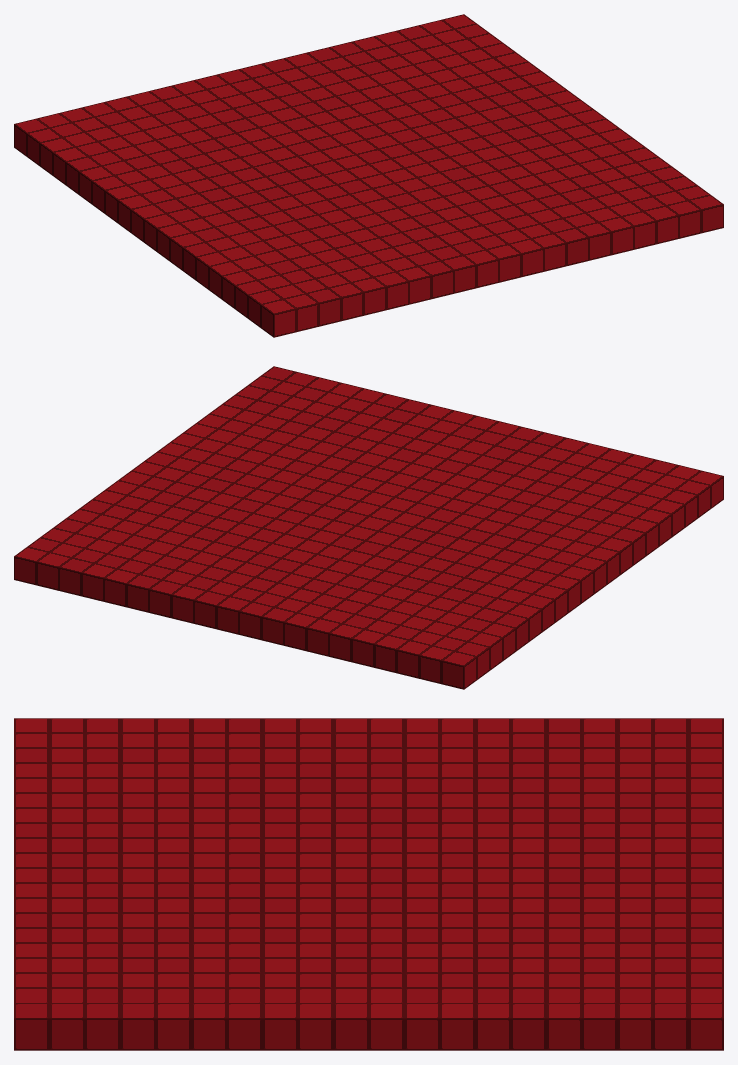
The model's file is stage_carpet_tile.glb.
3 renders of one model, top to bottom at view 1: azimuth 30°, elevation 25°; view 2: azimuth 150°, elevation 25°; view 3: azimuth 270°, elevation 25°, orthographic. The views are drawn at different scales.
Parts seen in each view (by area): view 1: stage_carpet_tile; view 2: stage_carpet_tile; view 3: stage_carpet_tile.
Boxes of the visible parts, box(x1,y1,x2,y2) form: stage_carpet_tile: box(14, 14, 723, 337); stage_carpet_tile: box(14, 366, 723, 689); stage_carpet_tile: box(14, 718, 723, 1050).
Bounding box in the file's own units: 1 × 0.05 × 1.
1 material, 1 textured.
